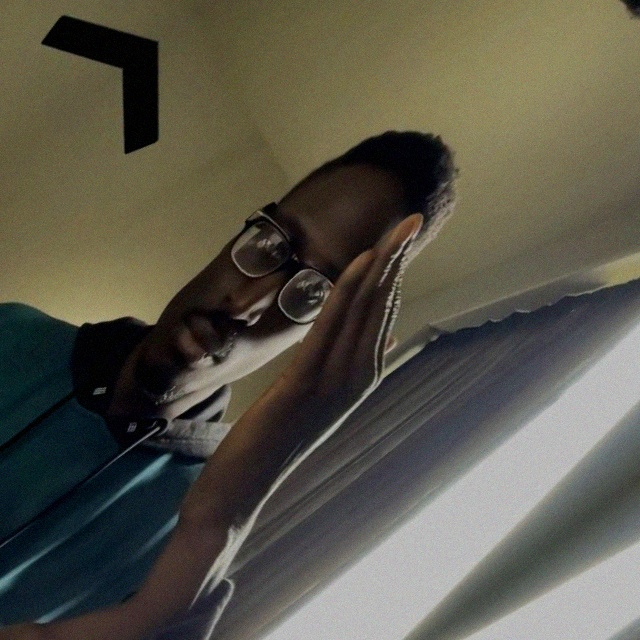Paper: (116, 207, 505, 551)
